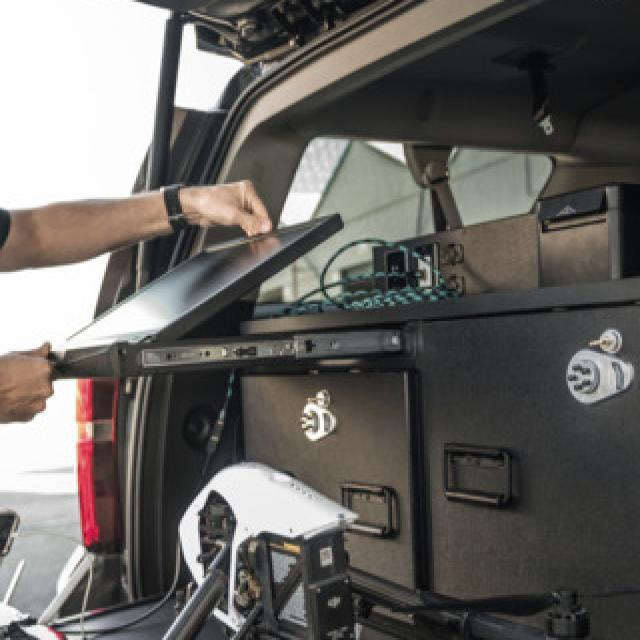drone: (0, 464, 640, 640)
